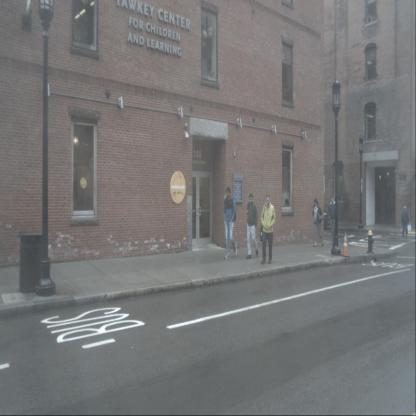cone: (341, 228, 351, 258)
